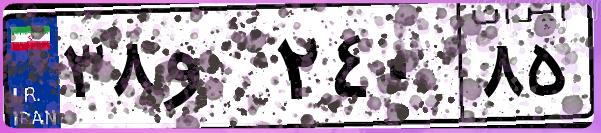0: (385, 28, 445, 110)
2: (270, 28, 330, 110)
3: (57, 26, 110, 100)
4: (330, 28, 385, 110)
5: (525, 38, 570, 115)
8: (475, 38, 525, 113), (110, 28, 158, 98)
و: (158, 20, 270, 120)
